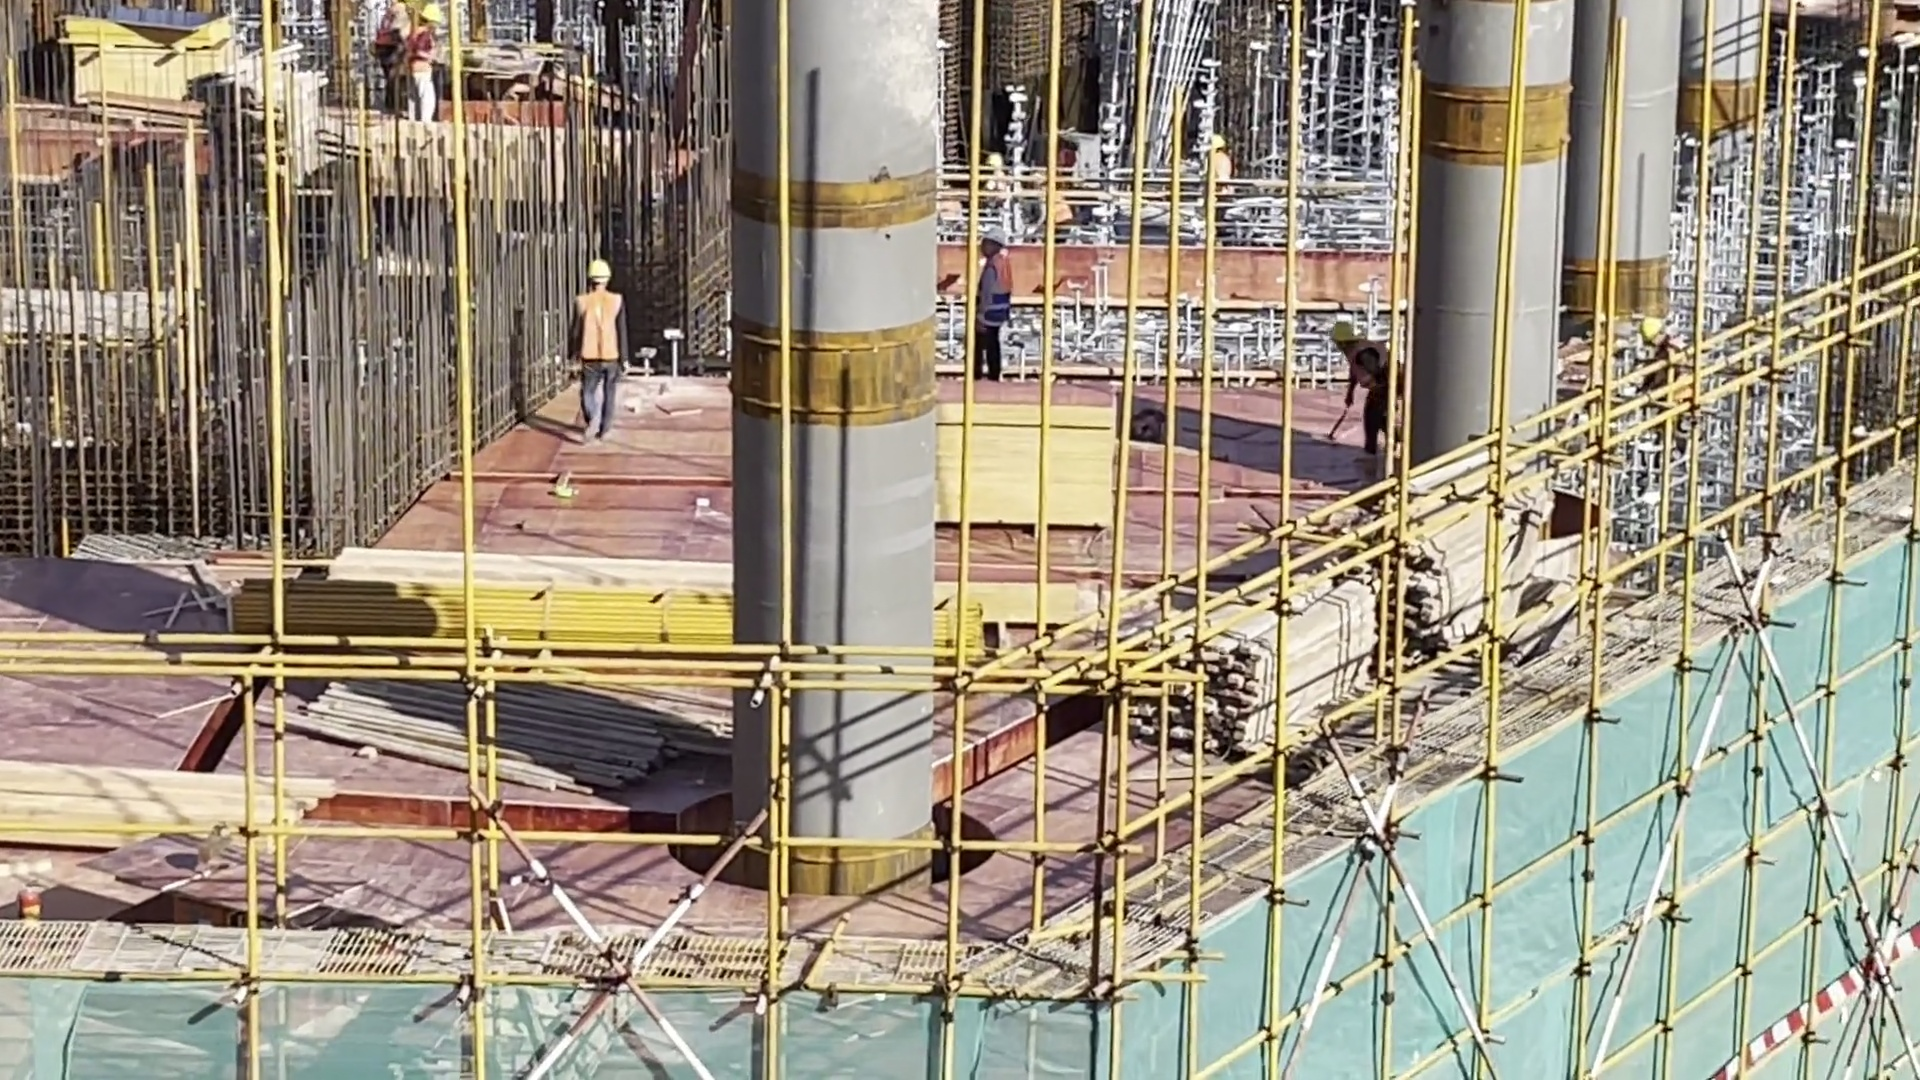helmet: (575, 252, 609, 291), (1633, 314, 1666, 343), (1332, 318, 1359, 350), (973, 227, 997, 255), (419, 2, 440, 27)
person: (561, 254, 627, 436), (1321, 314, 1404, 449), (958, 221, 1011, 395), (1632, 319, 1709, 435), (370, 2, 414, 116), (408, 6, 450, 121), (1202, 133, 1243, 246), (1026, 169, 1080, 245), (972, 144, 1015, 212)
vest: (572, 290, 619, 361), (976, 259, 1007, 320)
wood: (280, 656, 701, 838), (1125, 499, 1382, 733), (1386, 492, 1563, 642)
